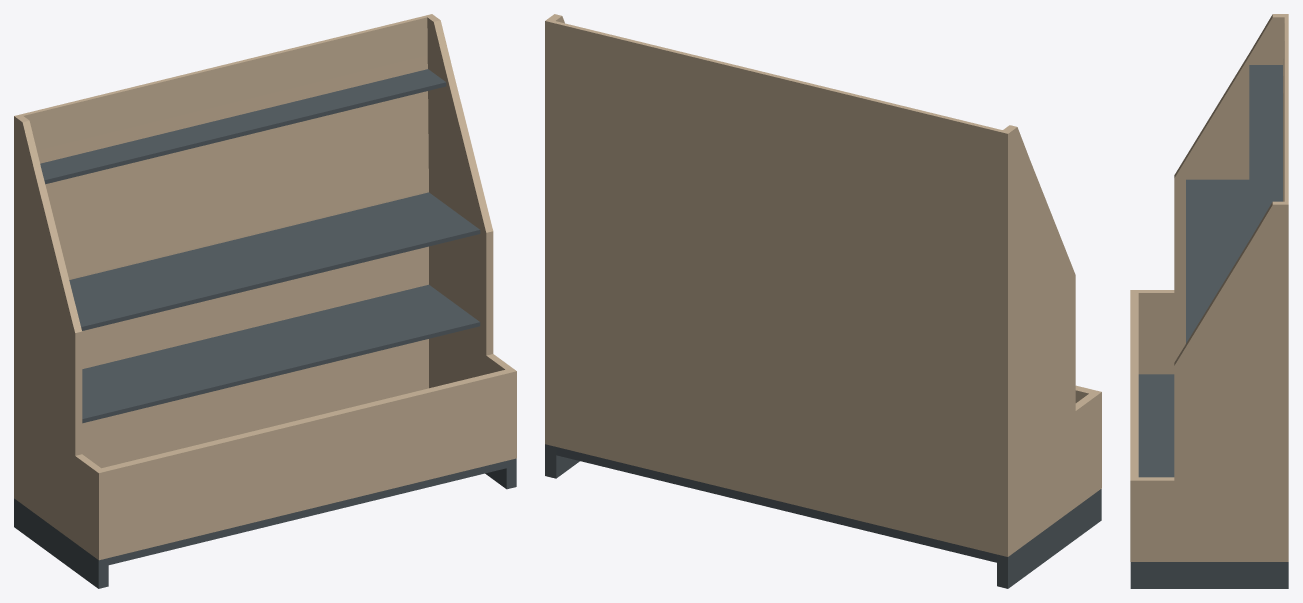
Rendered from SM_shelf_showcase_01.fbx.
The picture shows the model from 3 angles, left to right: view 1: azimuth 30°, elevation 25°; view 2: azimuth 150°, elevation 25°; view 3: azimuth 270°, elevation 25°; orthographic projection. The views are drawn at different scales.
Parts seen in each view (by area): view 1: shelf_showcase_01; view 2: shelf_showcase_01; view 3: shelf_showcase_01.
Boxes of the visible parts, <box> form: shelf_showcase_01: <box>14,14,516,588</box>; shelf_showcase_01: <box>545,14,1101,588</box>; shelf_showcase_01: <box>1130,14,1288,588</box>.
Size of the model in its own units: 163 by 153 by 57.34.
